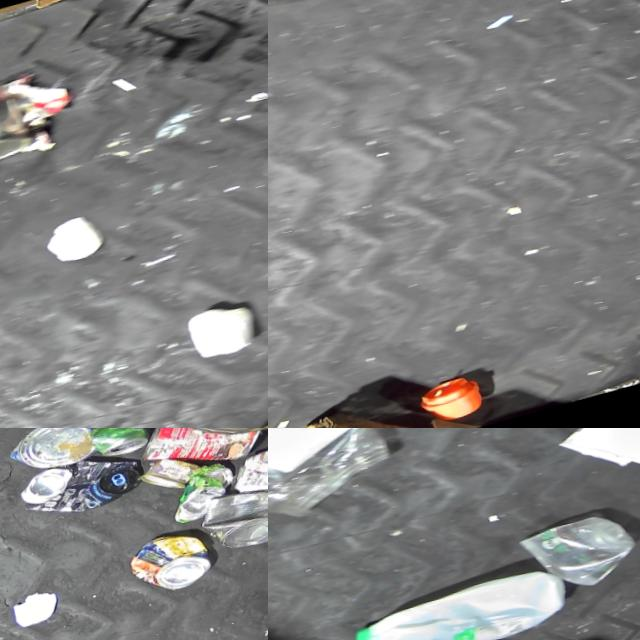can: (16, 446, 146, 529), (136, 428, 268, 486), (125, 527, 217, 604), (196, 476, 268, 561), (165, 462, 242, 529), (4, 428, 98, 480), (139, 453, 203, 502), (228, 438, 268, 512), (0, 90, 36, 172), (83, 428, 157, 466), (174, 428, 268, 454)
milk_jug: (344, 550, 589, 640)
